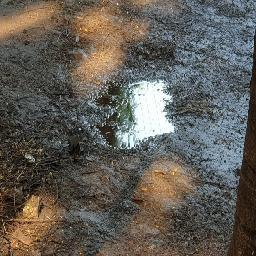water accumulation: (89, 75, 179, 151)
